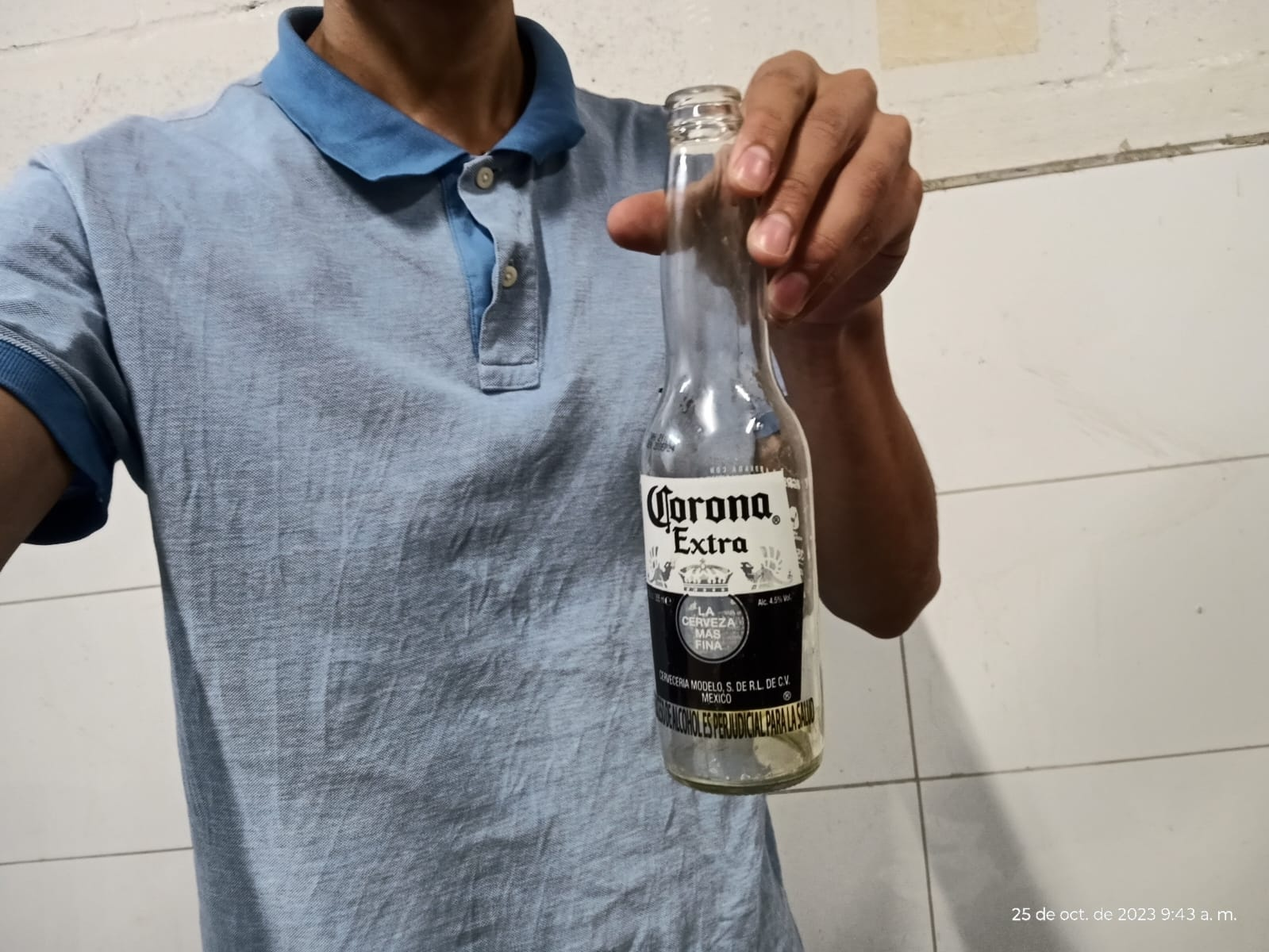Vidrio: (639, 84, 825, 791)
